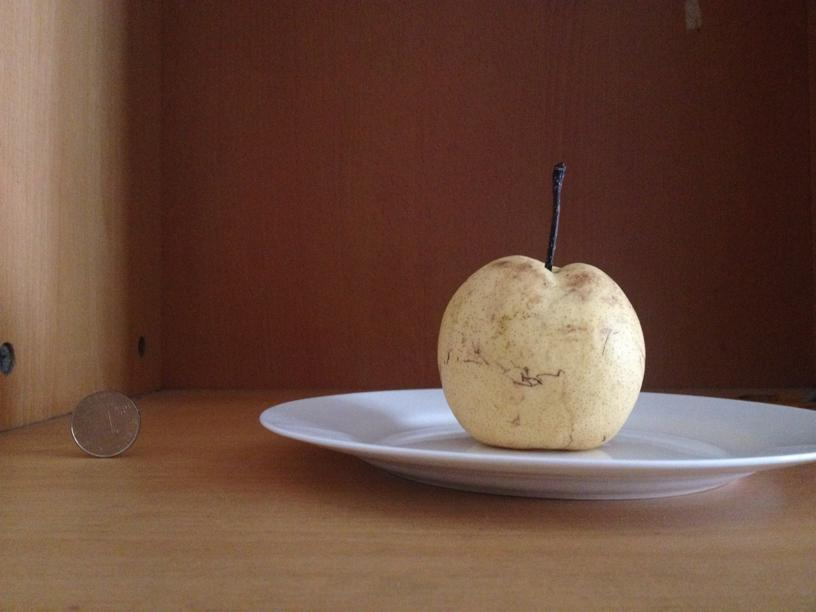coin: (69, 389, 141, 456)
pear: (437, 247, 646, 450)
